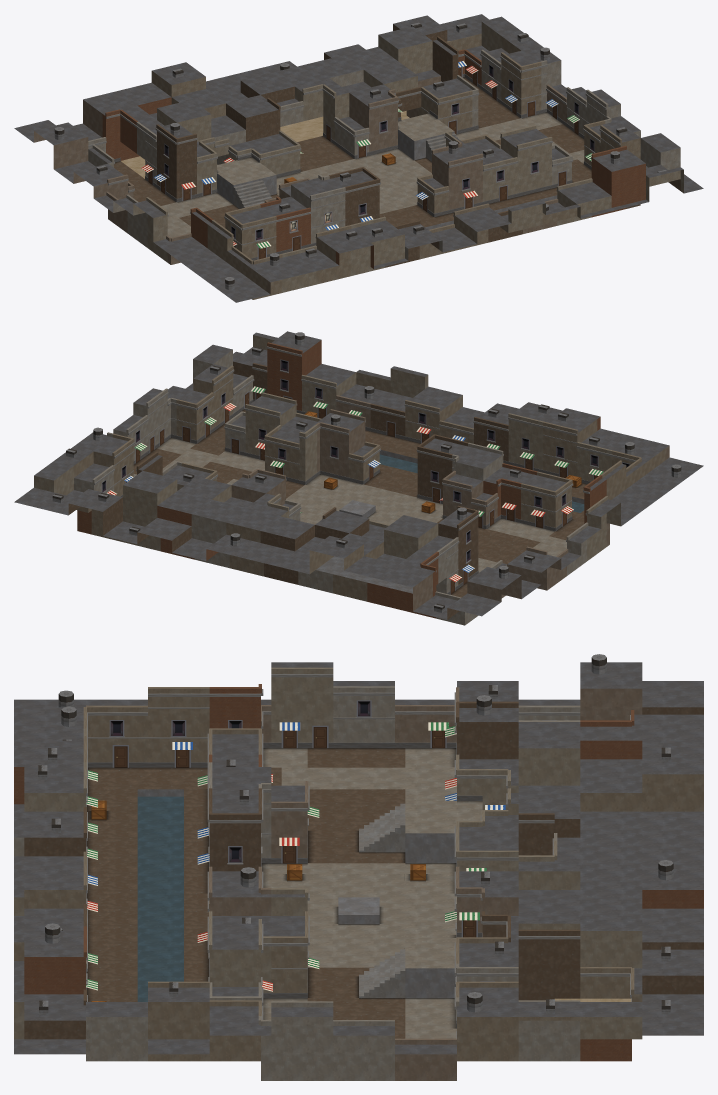
File: bazaar_v3.gltf
3 views of the same model, one above another, from view 1: azimuth 30°, elevation 25°; view 2: azimuth 150°, elevation 25°; view 3: azimuth 270°, elevation 25° (orthographic). The views are drawn at different scales.
Parts seen in each view (by area): view 1: Quarter, Detail, Windows, Steps, Shadows; view 2: Quarter, Detail, Windows, Shadows; view 3: Quarter, Detail, Steps, Shadows, Windows.
Part boxes in pixels (x1,y1,x2,y2): Quarter: (14,14,703,302); Detail: (54,22,666,289); Windows: (163,64,594,241); Steps: (233,133,457,208); Shadows: (115,77,591,217); Quarter: (14,331,703,625); Detail: (52,332,681,612); Windows: (101,359,630,563); Shadows: (134,409,586,594); Quarter: (14,662,703,1080); Detail: (38,654,673,1080); Steps: (359,803,405,997); Shadows: (86,748,482,1028); Windows: (86,700,556,984).
Size of the model in its own units: 81.5 by 12.3 by 67.
Materials: 26 (25 with a texture image).
